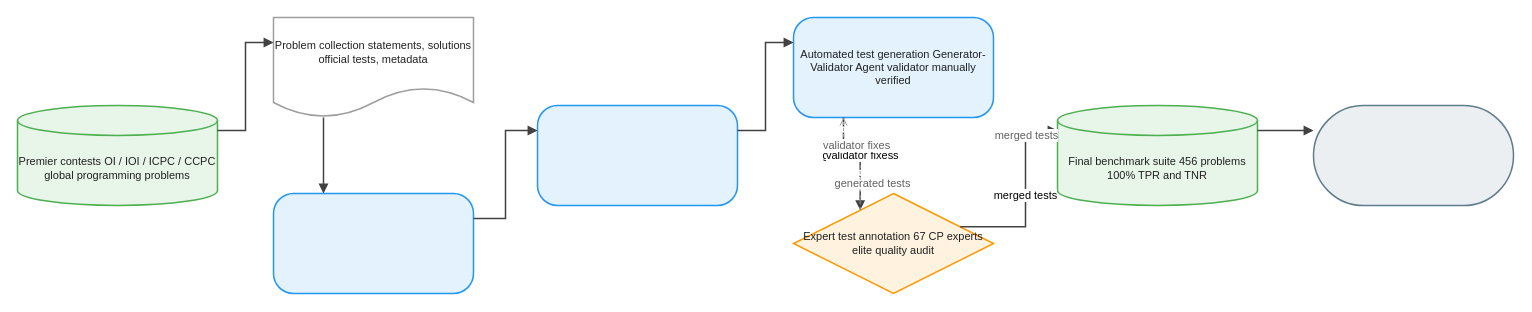
The diagram is 1532 pixels wide and 312 high, and some of its shapes have lost their labels. Each missing label, with the box of its shape:
Expert categorization difficulty levels algorithm and domain tags: (536, 104, 738, 206)
Format conversion PDF to Markdown + LaTeX manual proofreading: (272, 192, 474, 294)
Model evaluation four runs per problem Pass@k by category: (1312, 104, 1514, 206)
